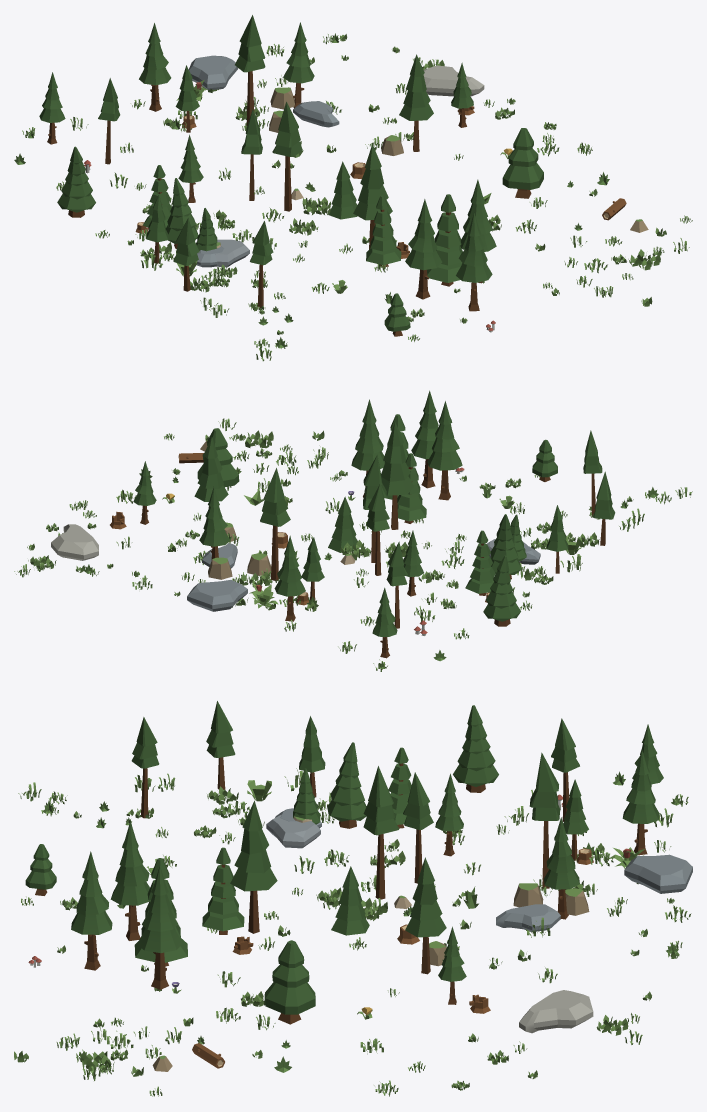
The model's file is cell_x-2_z-2_render.gltf.
3 renders of one model, top to bottom at view 1: azimuth 30°, elevation 25°; view 2: azimuth 150°, elevation 25°; view 3: azimuth 270°, elevation 25°, orthographic. The views are drawn at different scales.
Parts seen in each view (by area): view 1: cell_x-2_z-2; view 2: cell_x-2_z-2; view 3: cell_x-2_z-2.
Part boxes in pixels (bbox=[...]): cell_x-2_z-2: bbox=[14, 15, 692, 361]; cell_x-2_z-2: bbox=[14, 390, 692, 671]; cell_x-2_z-2: bbox=[14, 701, 692, 1096].
Bounding box in the file's own units: 40.91 × 13.67 × 40.81.
